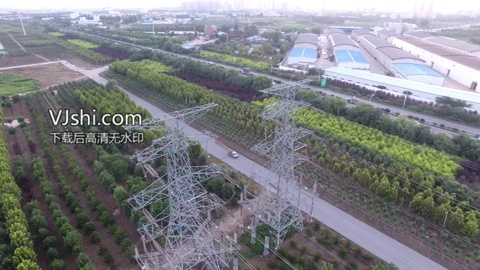tower_body: (123, 101, 240, 270), (244, 74, 320, 248)
tower_foot: (248, 194, 306, 245)
tower_head: (125, 103, 225, 133), (258, 78, 315, 118)
